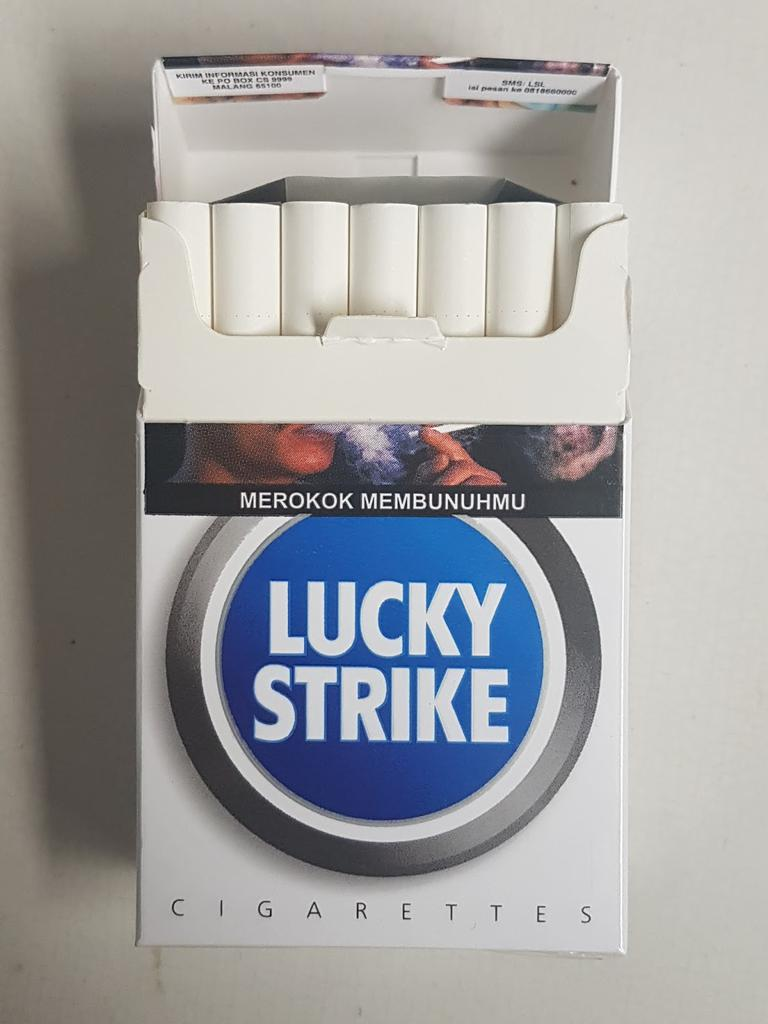lucky_strike_blue: (145, 227, 628, 956)
